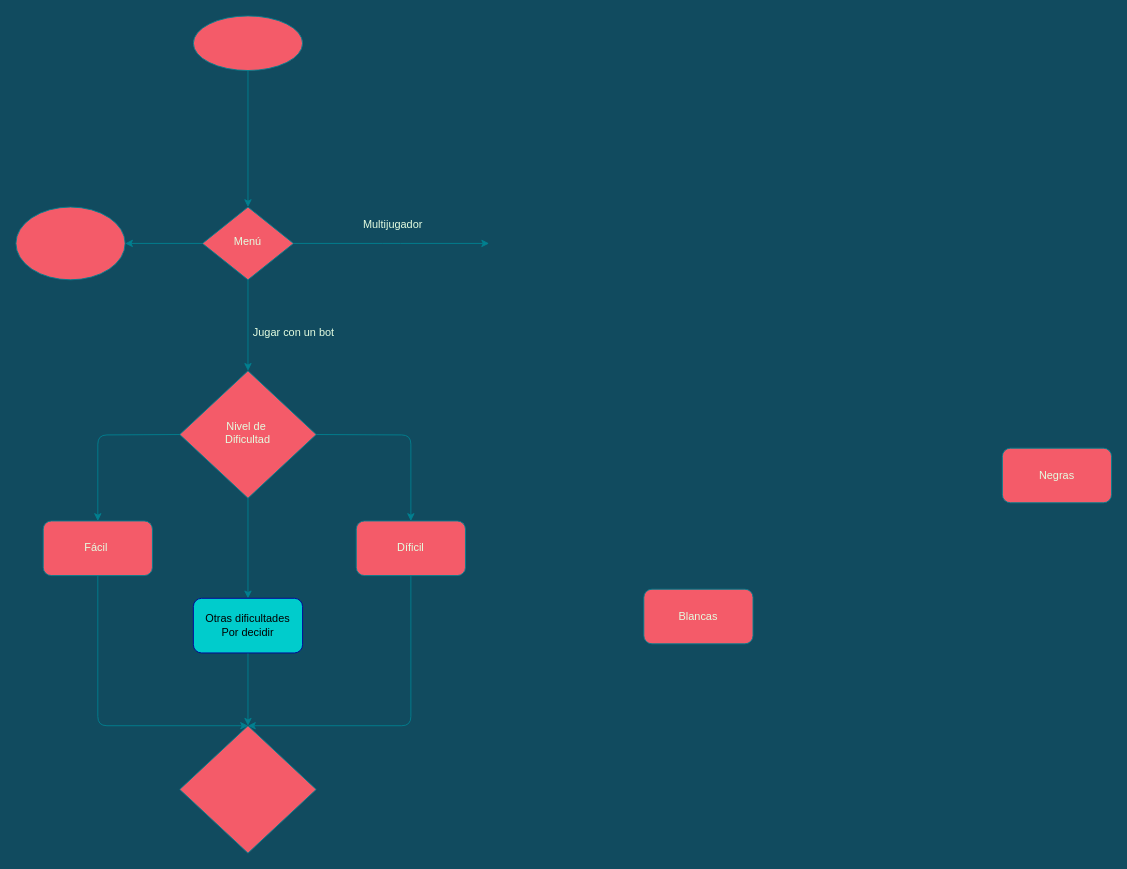
The diagram is 1127 pixels wide and 869 high, and some of its shapes have lost their labels. Each missing label, with the box of its shape:
Inicio: (192, 15, 303, 71)
Sallir: (15, 206, 125, 280)
¿Con que color desea jugar?: (179, 725, 316, 853)
